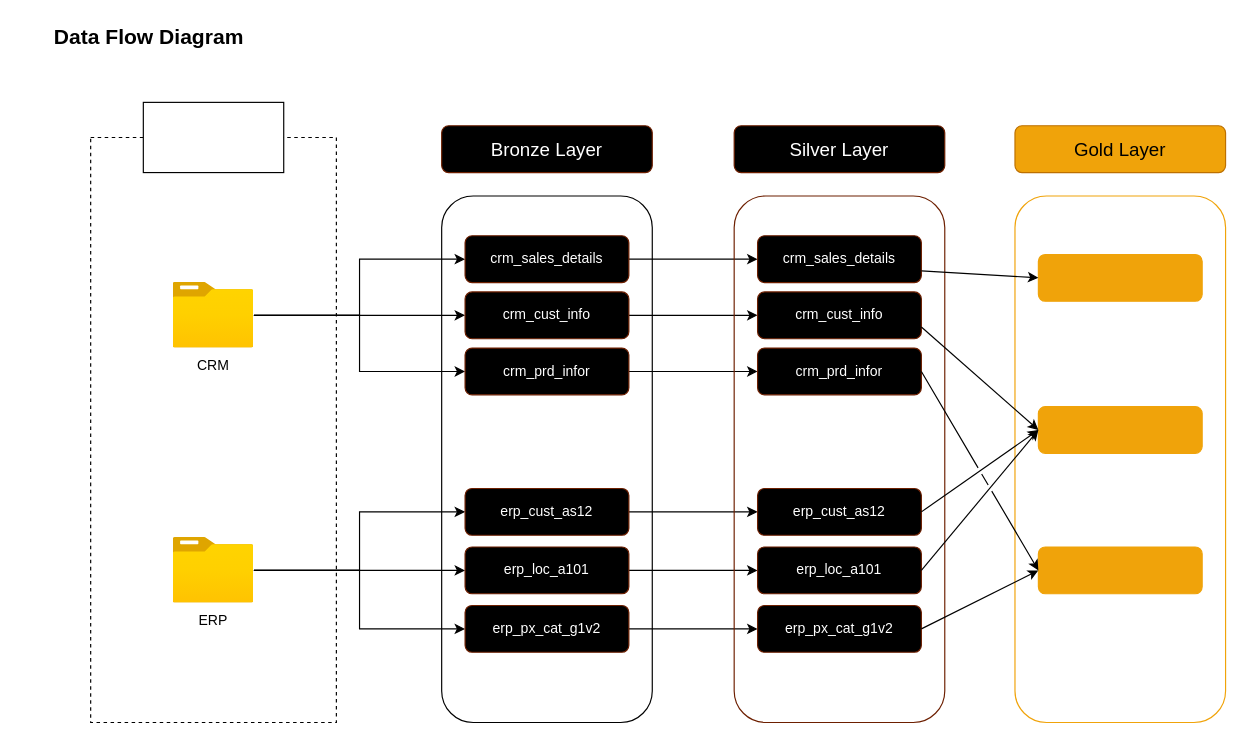
The diagram is 1246 pixels wide and 743 high, and some of its shapes have lost their labels. Each missing label, with the centre of its shape:
dim_customers: the point at 1119,429
dim_products: the point at 1119,570
fact_sales: the point at 1119,277
Sources: the point at 213,137
